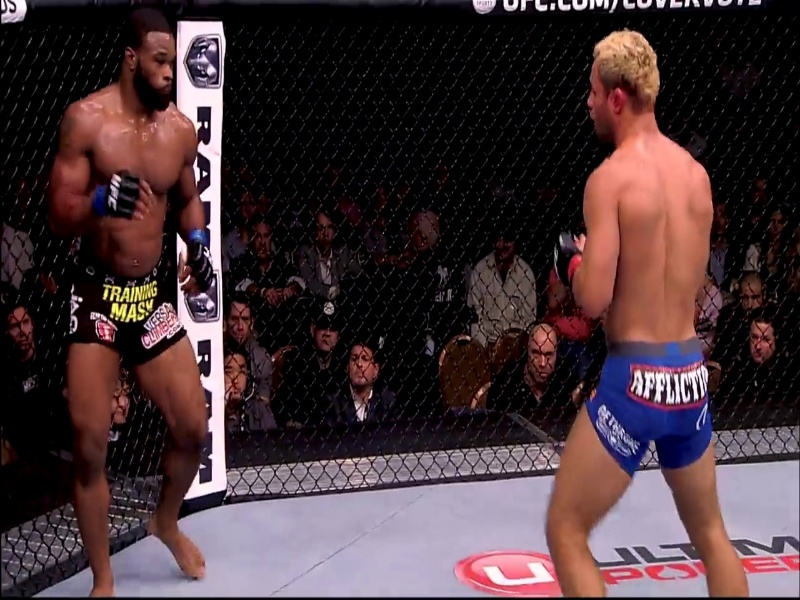fighter: (544, 26, 757, 600), (43, 25, 219, 600)
